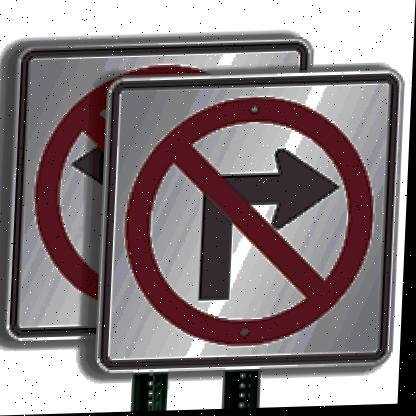No right turn: (118, 90, 388, 360)
